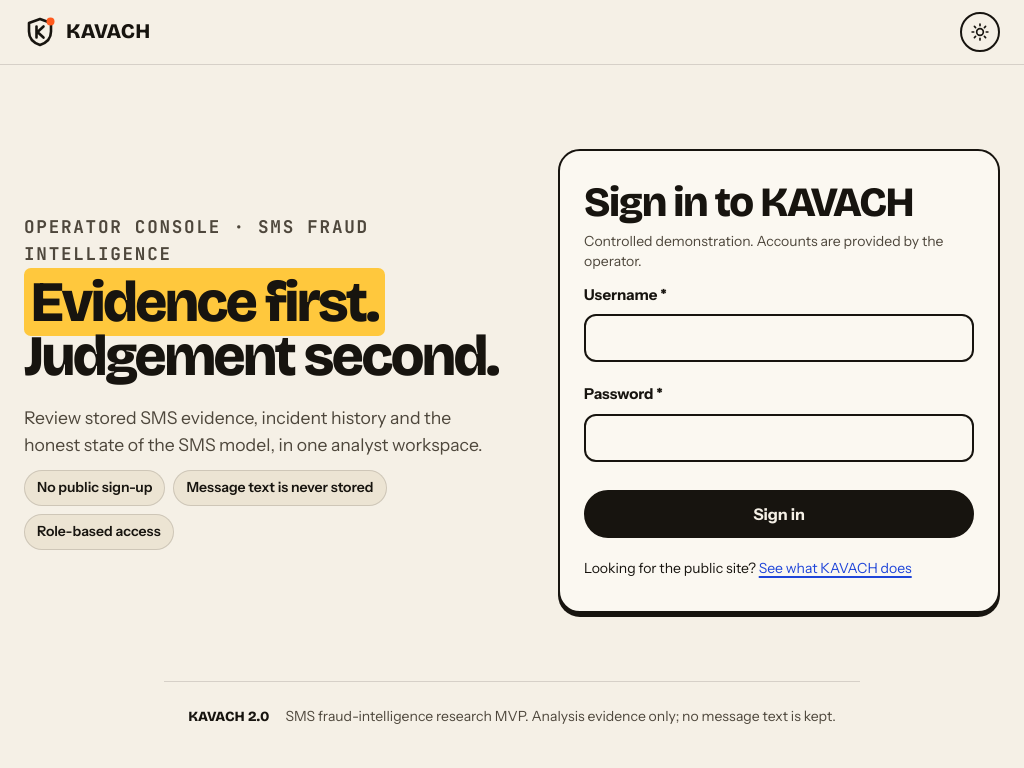
Test: sign in › explains a 503 DEPENDENCY_UNAVAILABLE without exposing server text
Type "analyst.one" into the field labelled "Username *".
click(779, 338); type("analyst.one")  # box x1=584 y1=314 x2=974 y2=362
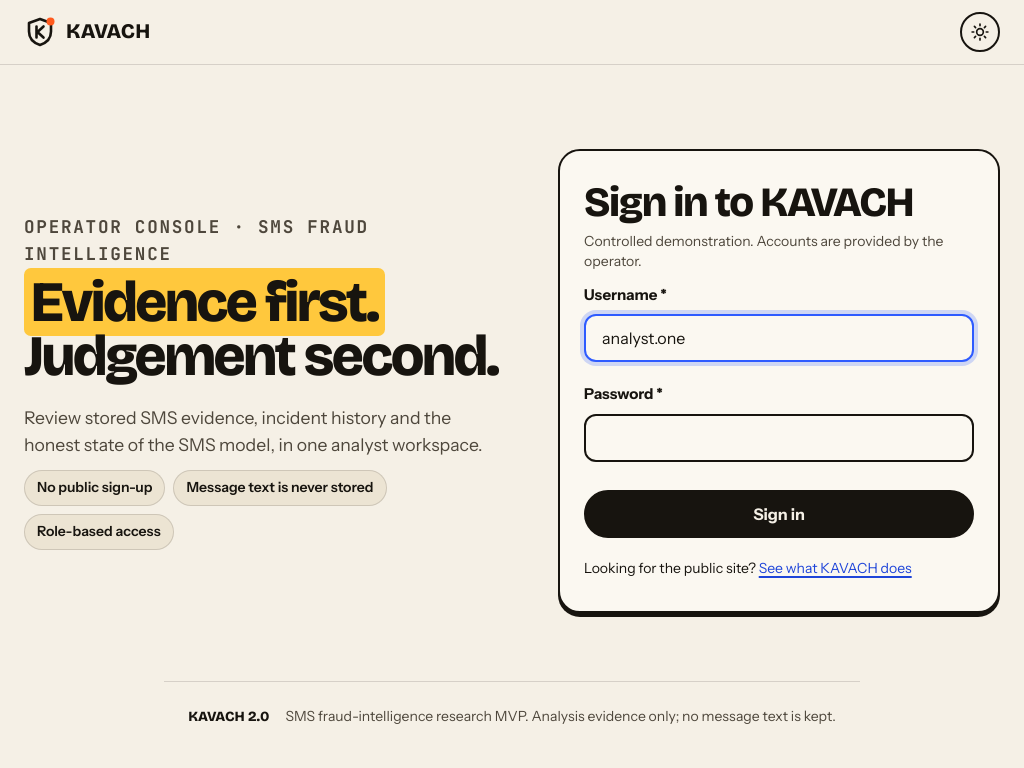
Type "correct horse" into the password field labelled "Password *".
click(779, 438); type("correct horse")  # box x1=584 y1=414 x2=974 y2=462
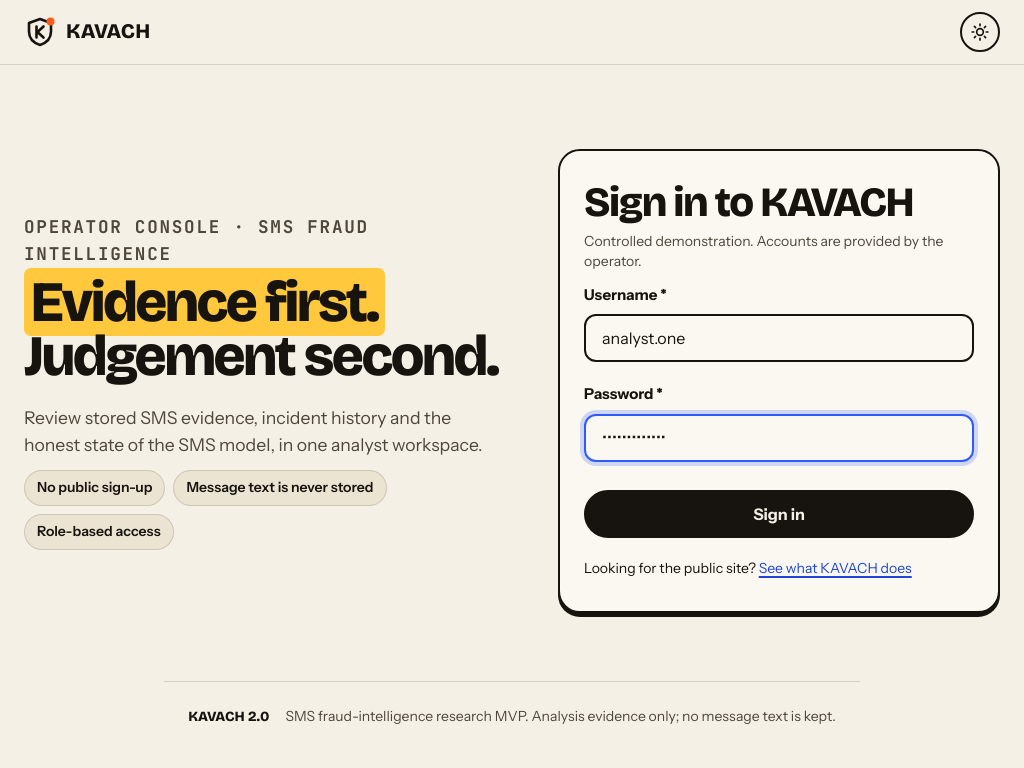
Click the button "Sign in".
click(779, 514)  # box x1=584 y1=490 x2=974 y2=538
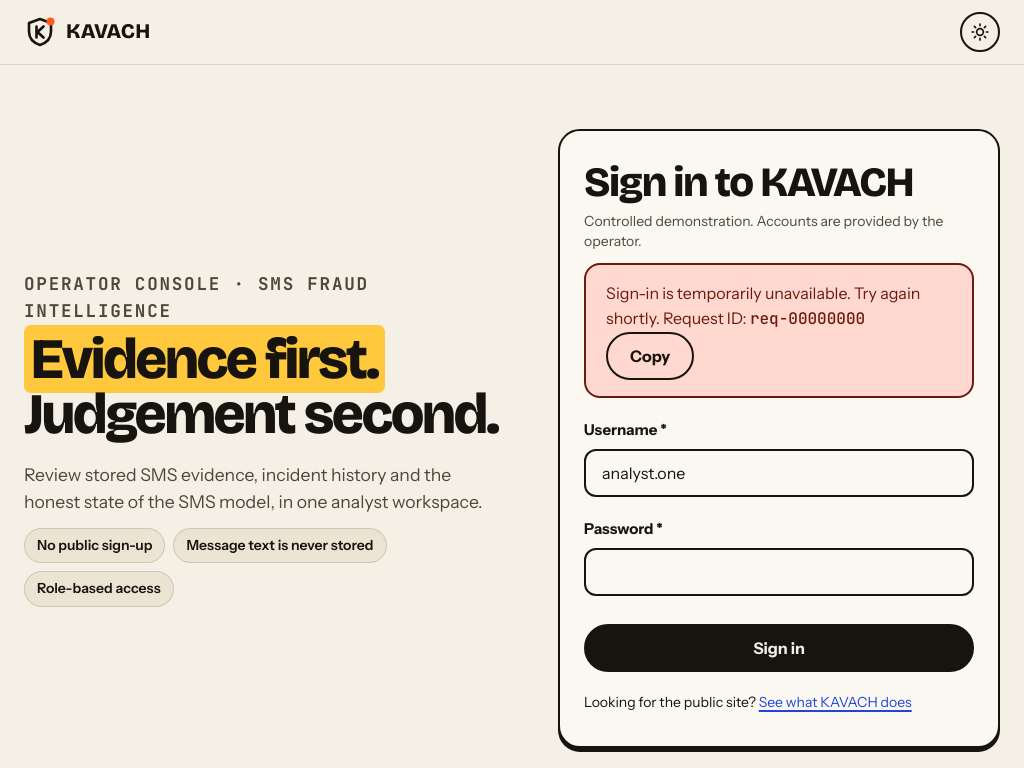
Expected: the text "Sign-in is temporarily unavailable" is shown, x1=606 y1=283 x2=920 y2=328
Expected: the text "req-00000000" is shown, x1=750 y1=308 x2=865 y2=329
